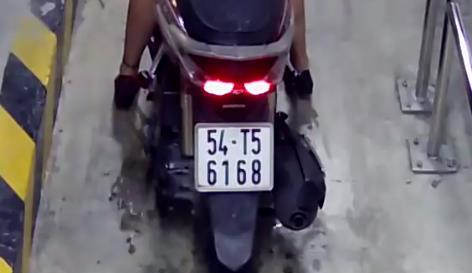lisence: (194, 122, 274, 192)
